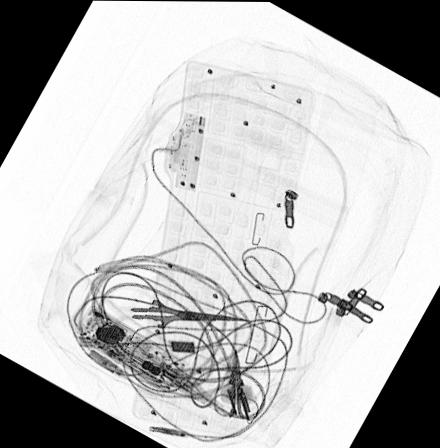Scissors: (105, 281, 251, 341)
